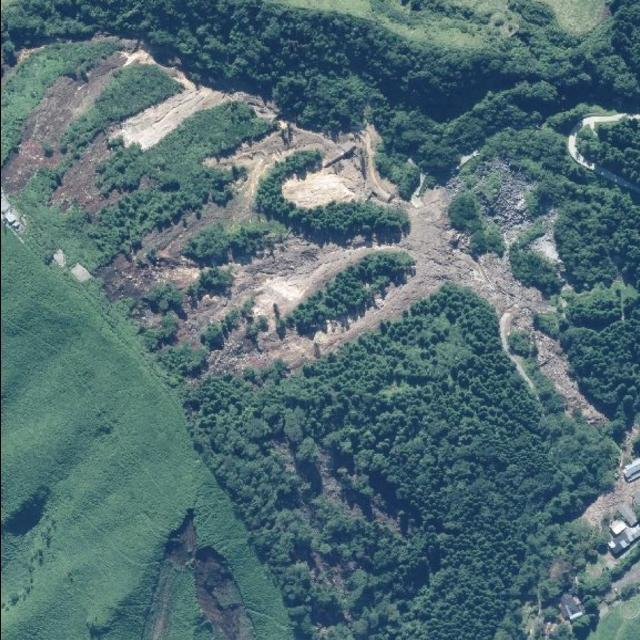landslide: (0, 40, 555, 339), (536, 331, 607, 424), (105, 219, 197, 289)
